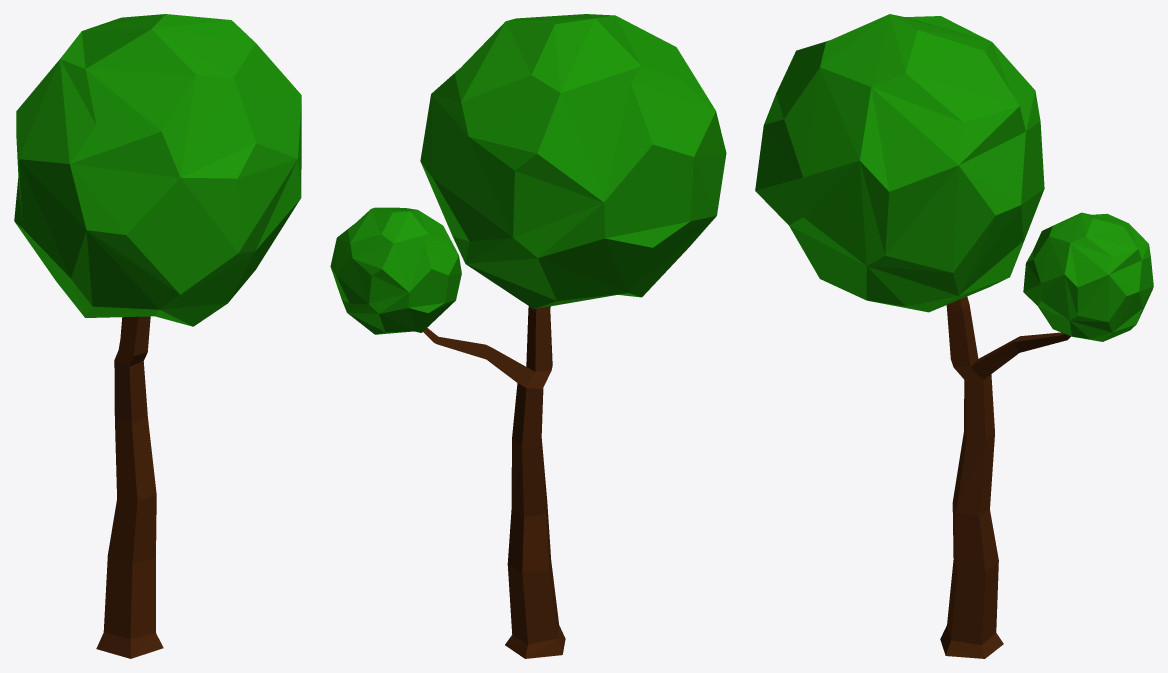
The model's file is finalTree1.FBX.
The picture shows the model from 3 angles, left to right: view 1: azimuth 30°, elevation 25°; view 2: azimuth 150°, elevation 25°; view 3: azimuth 270°, elevation 25°; orthographic projection. The views are drawn at different scales.
Visible parts, largest first — view 1: Cylinder023; view 2: Cylinder023; view 3: Cylinder023.
Boxes of the visible parts, bbox=[...] form: Cylinder023: bbox=[14, 14, 301, 658]; Cylinder023: bbox=[330, 14, 726, 658]; Cylinder023: bbox=[755, 14, 1153, 658].
Bounding box in the file's own units: 60.96 × 132 × 76.38.
